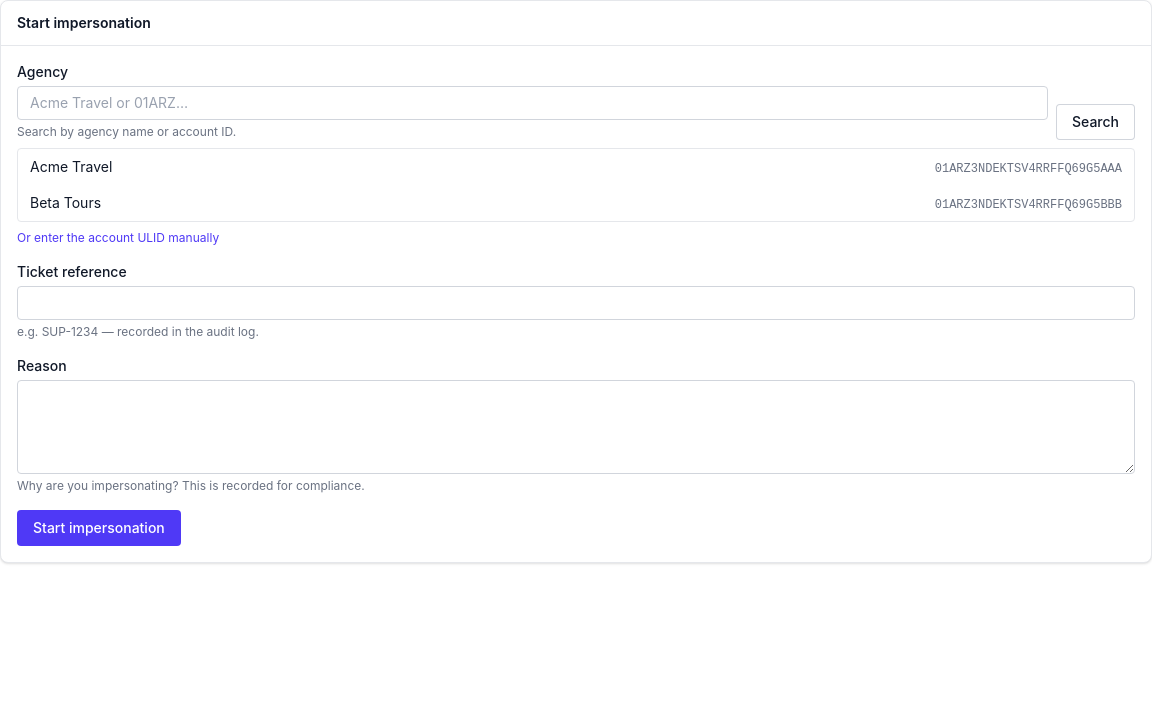
Test: ImpersonationStartForm — manual fallback › HH3 — "Back to agency selector" returns to selector mode
Click the button with test id "manual-mode-toggle" at (118, 238), box [17,230,219,246]
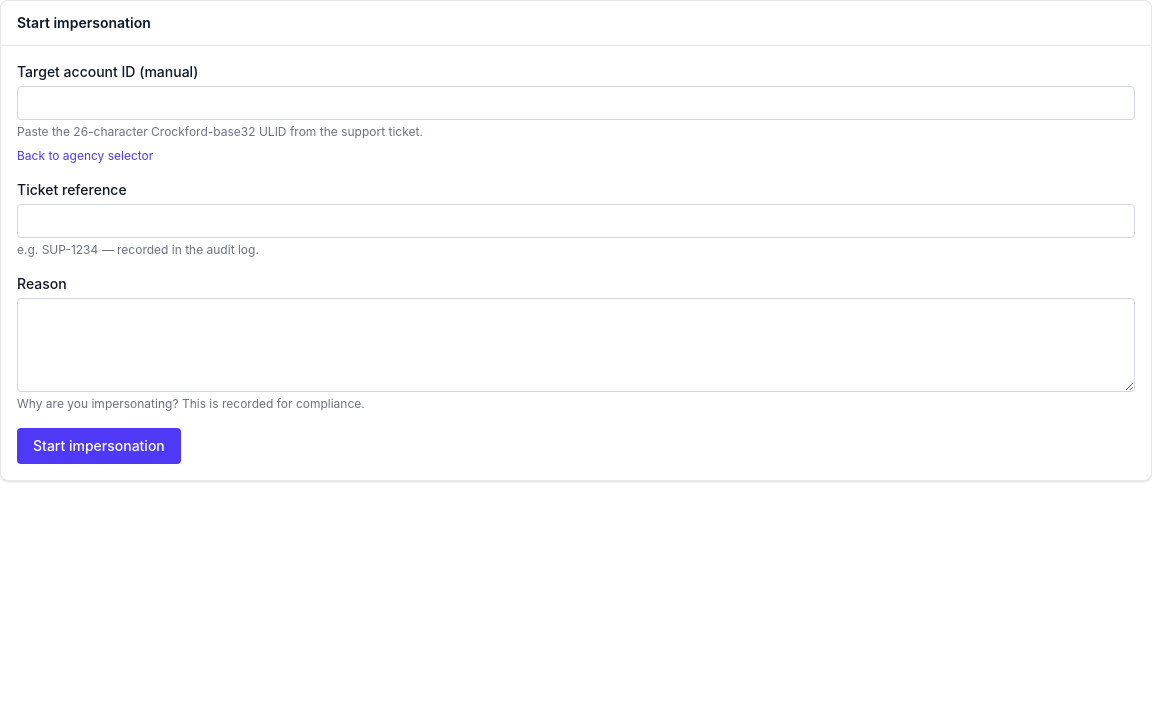
Click the button with test id "selector-mode-toggle" at (85, 156), box [17,148,153,164]
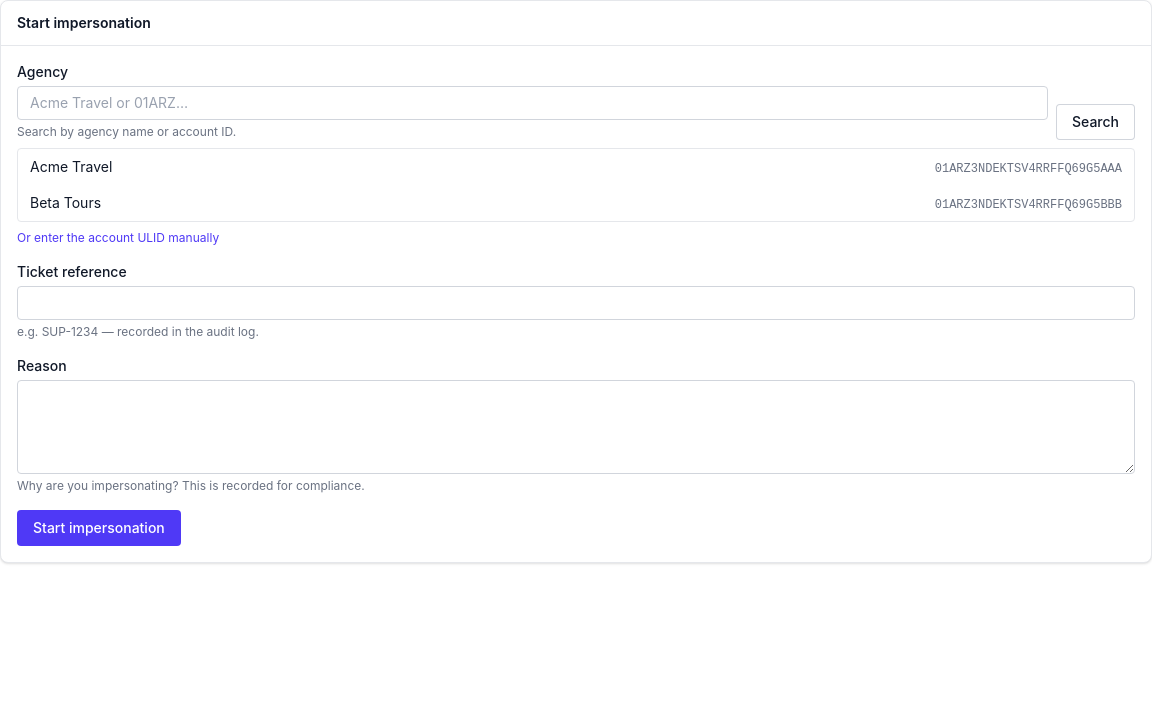
Now the field with test id "manual-target-account-id" is gone
Now the list with test id "agency-list" is shown, box [17,148,1135,222]
